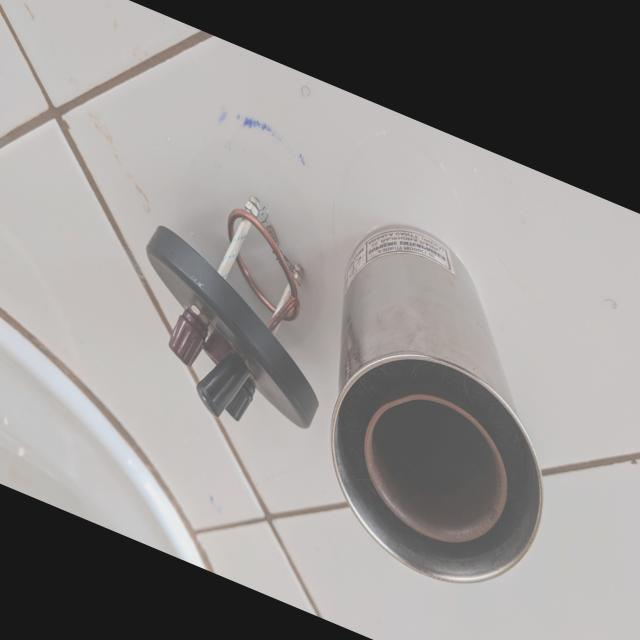Joule-s Calorimeter: (320, 194, 556, 633)
